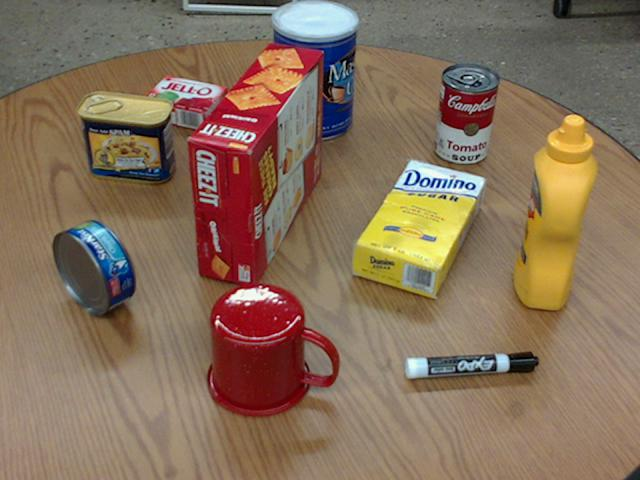cracker_box: (188, 42, 321, 286)
gelatin_box: (138, 74, 226, 128)
large_marker: (405, 352, 537, 378)
master_chef_can: (271, 0, 356, 139)
mug: (207, 282, 336, 416)
mustard_bottle: (514, 116, 596, 309)
potted_meat_can: (77, 90, 174, 181)
sugar_box: (351, 161, 485, 295)
tomato_soup_can: (433, 63, 499, 164)
tuna_fish_can: (53, 220, 136, 314)
